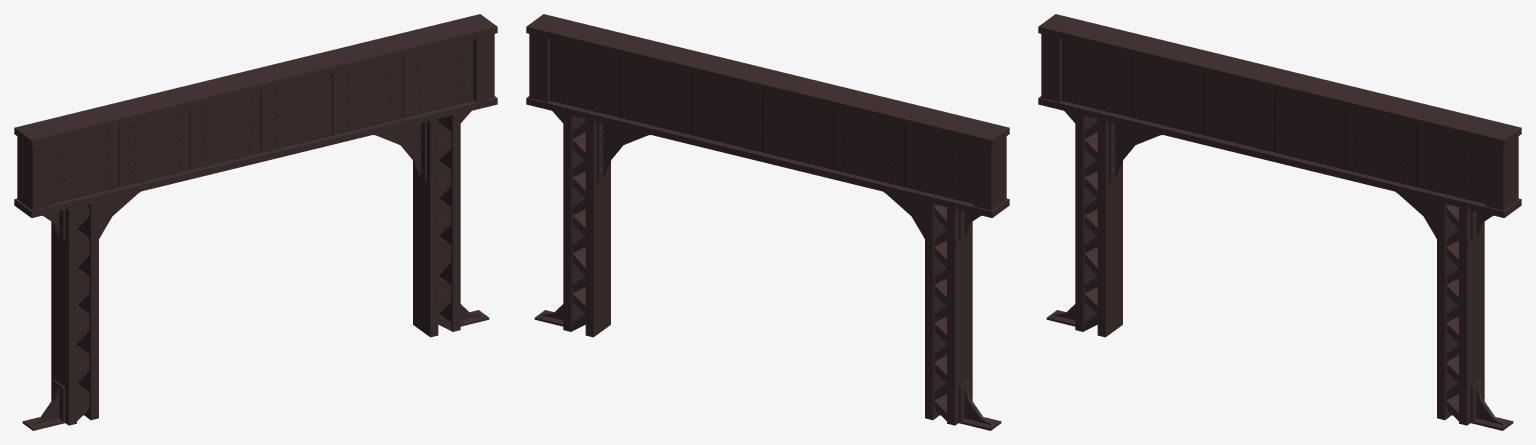
The model's file is SW_ENV_EL_TrackSupport_Upper_Double.fbx.
The picture shows the model from 3 angles, left to right: view 1: azimuth 30°, elevation 25°; view 2: azimuth 150°, elevation 25°; view 3: azimuth 330°, elevation 25°; orthographic projection.
Visible parts, largest first — view 1: SW_ENV_EL_TrackSupport_Upper_Double; view 2: SW_ENV_EL_TrackSupport_Upper_Double; view 3: SW_ENV_EL_TrackSupport_Upper_Double.
Boxes of the visible parts, x1,y1,x2,y2 form: SW_ENV_EL_TrackSupport_Upper_Double: (14,14,497,430); SW_ENV_EL_TrackSupport_Upper_Double: (526,14,1009,430); SW_ENV_EL_TrackSupport_Upper_Double: (1038,14,1521,430).
Bounding box in the file's own units: 1160 × 700 × 75.
